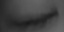LeftEyeFatigue: (5, 6, 62, 31)
